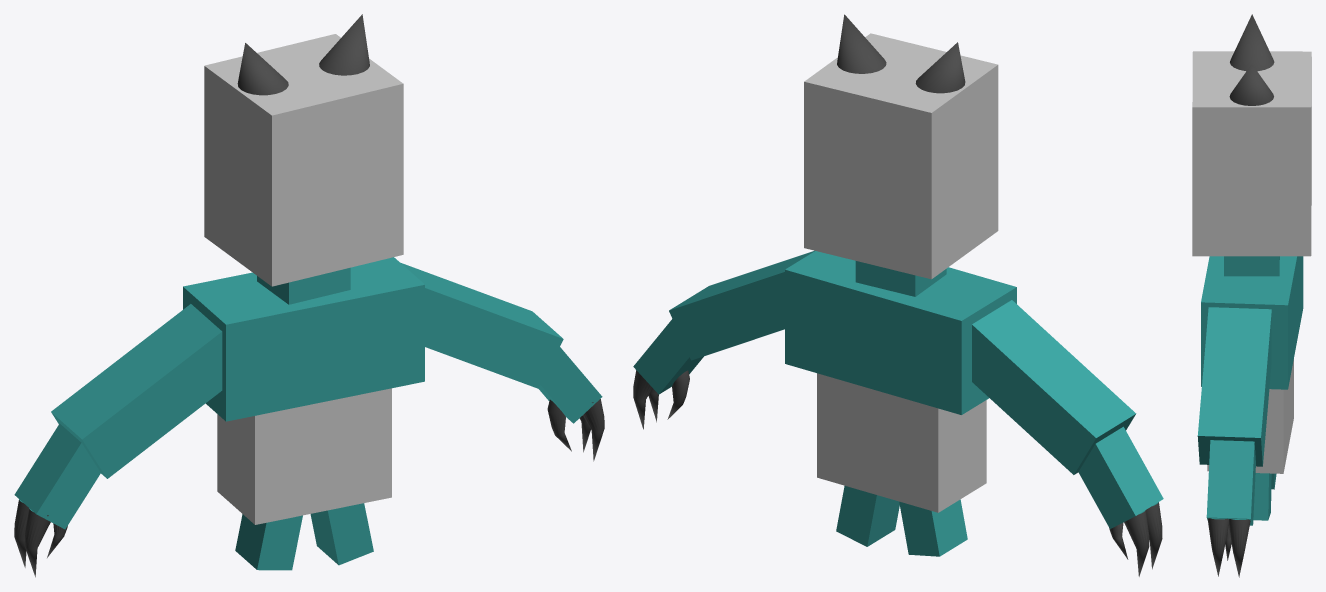
Rendered from SmallDemonNoSkeleton.fbx.
The picture shows the model from 3 angles, left to right: view 1: azimuth 30°, elevation 25°; view 2: azimuth 150°, elevation 25°; view 3: azimuth 270°, elevation 25°; orthographic projection. The views are drawn at different scales.
Visible parts, largest first — view 1: SmallDemon; view 2: SmallDemon; view 3: SmallDemon.
Boxes of the visible parts, left/top/right/bottom form: SmallDemon: left=14, top=14, right=604, bottom=577; SmallDemon: left=633, top=14, right=1163, bottom=576; SmallDemon: left=1192, top=14, right=1311, bottom=577.
Bounding box in the file's own units: 128 × 117 × 27.25.
